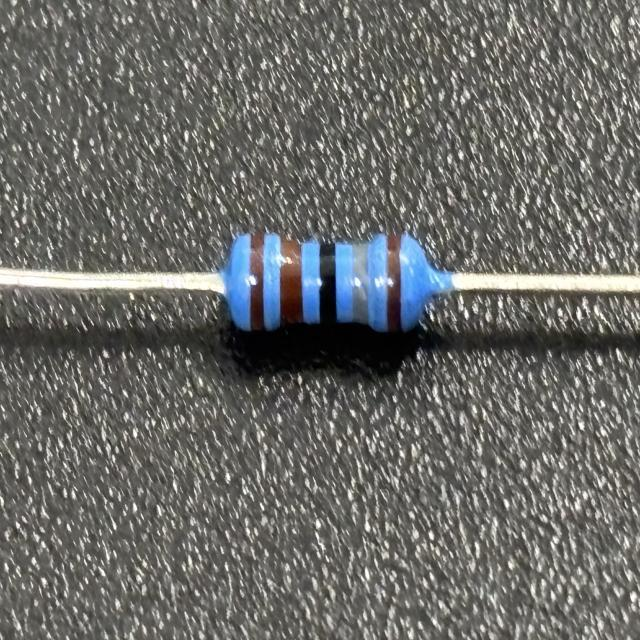resistor: (225, 220, 428, 342)
